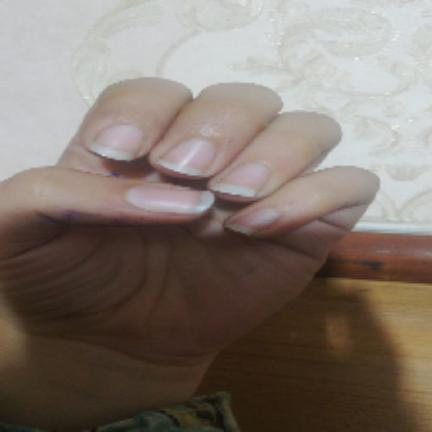Nail: (125, 188, 214, 214), (157, 138, 215, 176), (210, 163, 269, 197), (89, 124, 143, 161), (225, 208, 278, 235)
